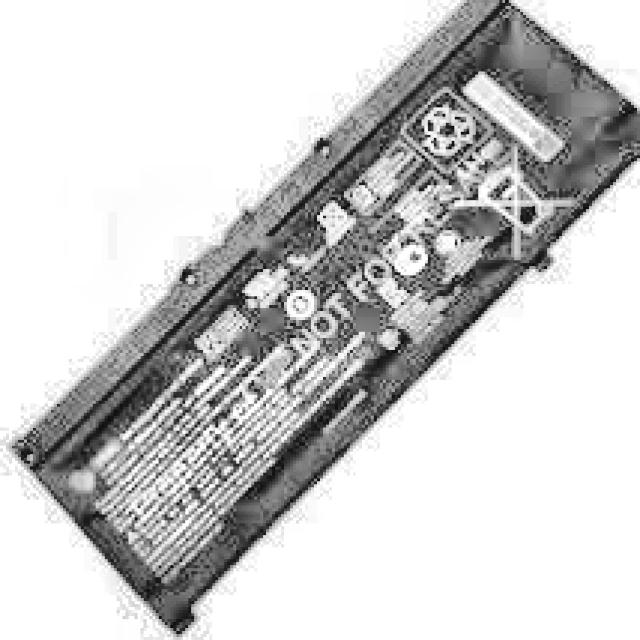Battery: (27, 0, 640, 619)
